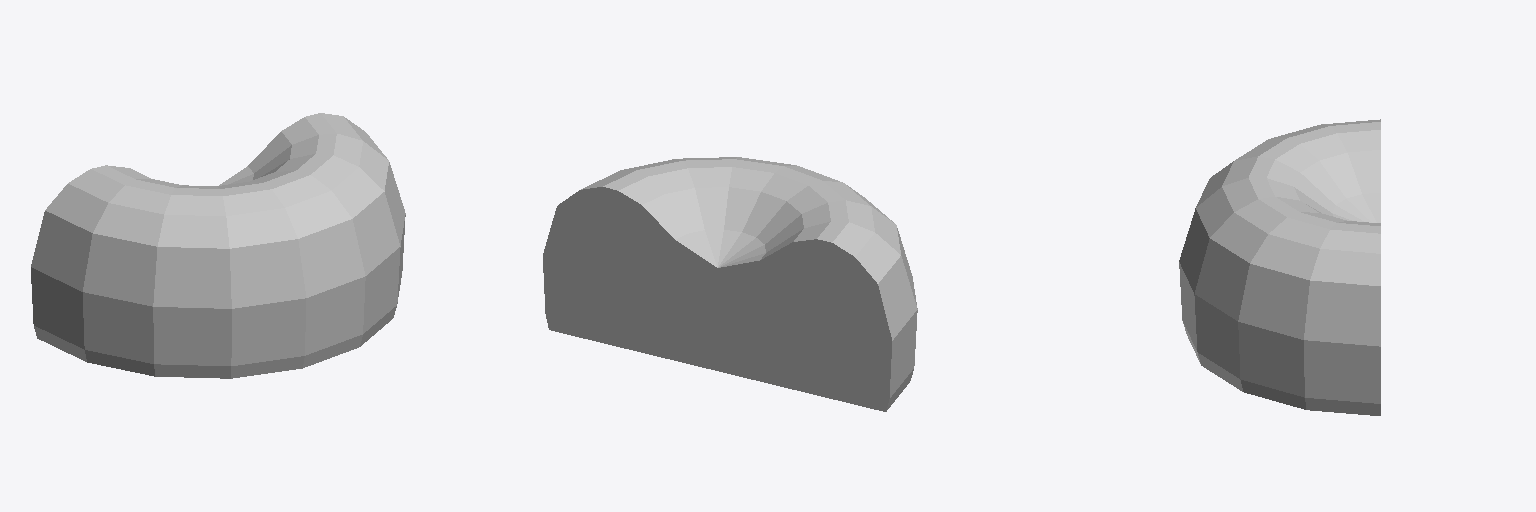
Rendered from Manzana-1_4B.obj.
3 views of the same model, side by side, from view 1: azimuth 30°, elevation 25°; view 2: azimuth 150°, elevation 25°; view 3: azimuth 270°, elevation 25° (orthographic).
Parts seen in each view (by area): view 1: Manzana-1_4B_Sphere.013; view 2: Manzana-1_4B_Sphere.013; view 3: Manzana-1_4B_Sphere.013.
Boxes of the visible parts, <box> form: Manzana-1_4B_Sphere.013: <box>31,113,405,378</box>; Manzana-1_4B_Sphere.013: <box>543,157,917,411</box>; Manzana-1_4B_Sphere.013: <box>1179,119,1380,415</box>.
Bounding box in the file's own units: 3.67 × 1.57 × 1.83.